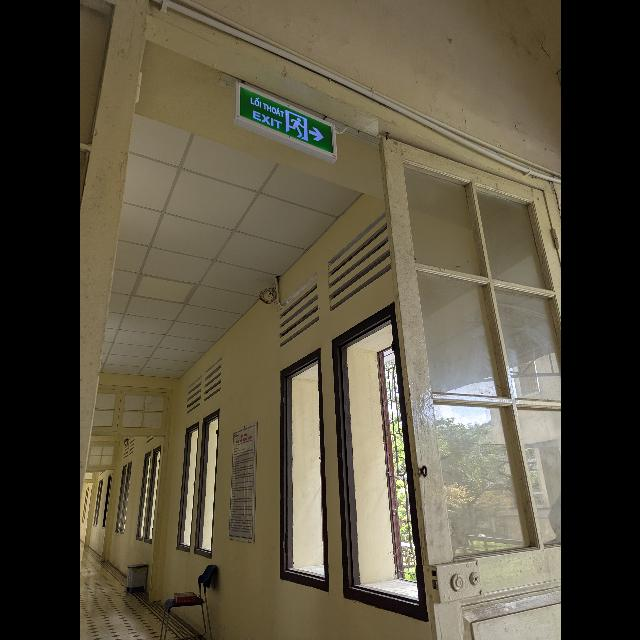exit: (234, 83, 336, 162)
